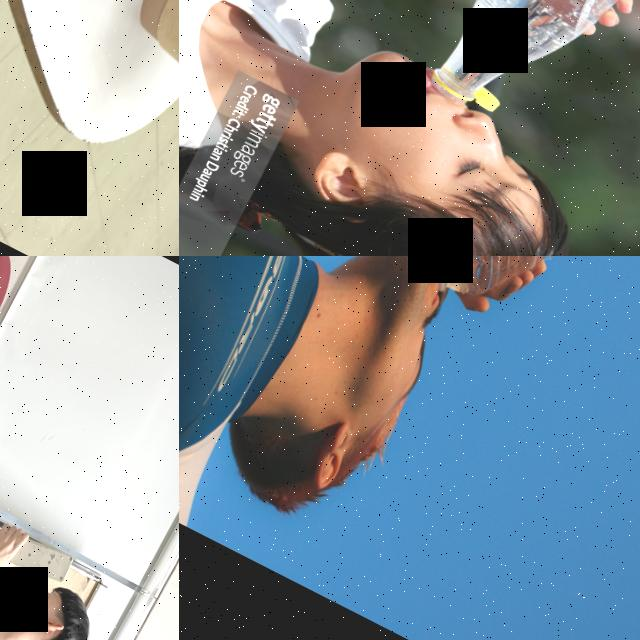bottle: (425, 0, 640, 153), (423, 256, 640, 352)
